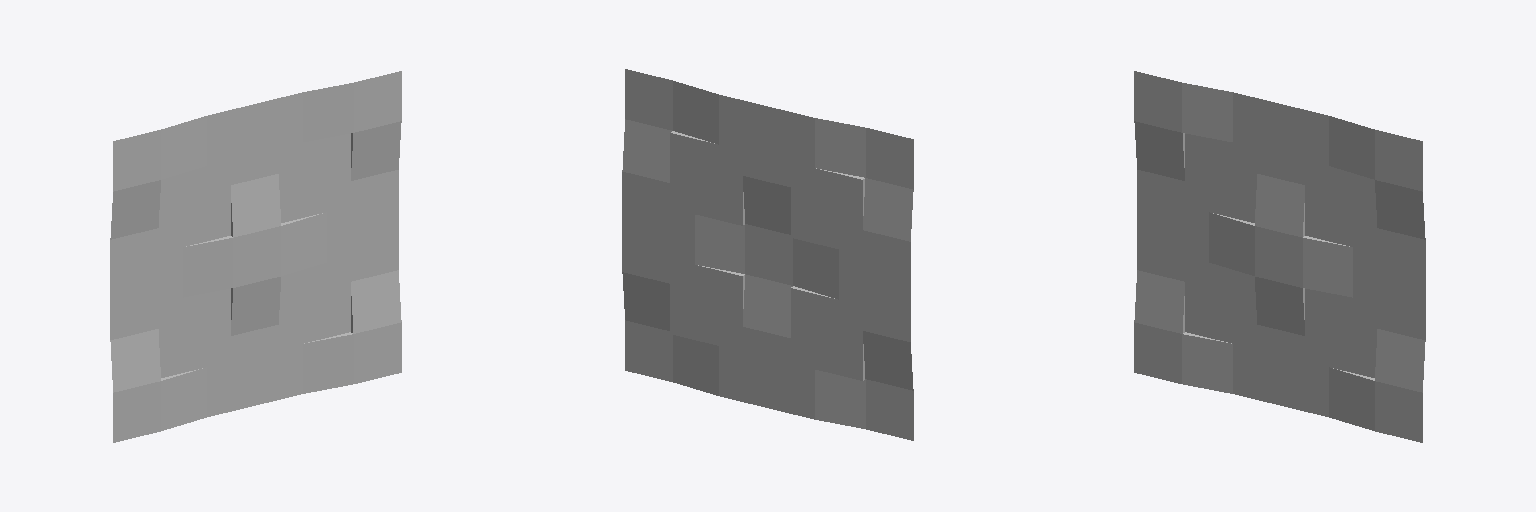
Rendered from tag1_1.obj.
The picture shows the model from 3 angles: view 1: azimuth 30°, elevation 25°; view 2: azimuth 150°, elevation 25°; view 3: azimuth 330°, elevation 25°; orthographic projection.
Visible parts, largest first — view 1: Grid; view 2: Grid; view 3: Grid.
Part boxes in pixels (bbox=[...]): Grid: bbox=[110, 71, 401, 442]; Grid: bbox=[622, 69, 913, 440]; Grid: bbox=[1134, 71, 1425, 442].
Bounding box in the file's own units: 30 × 30 × 0.5.